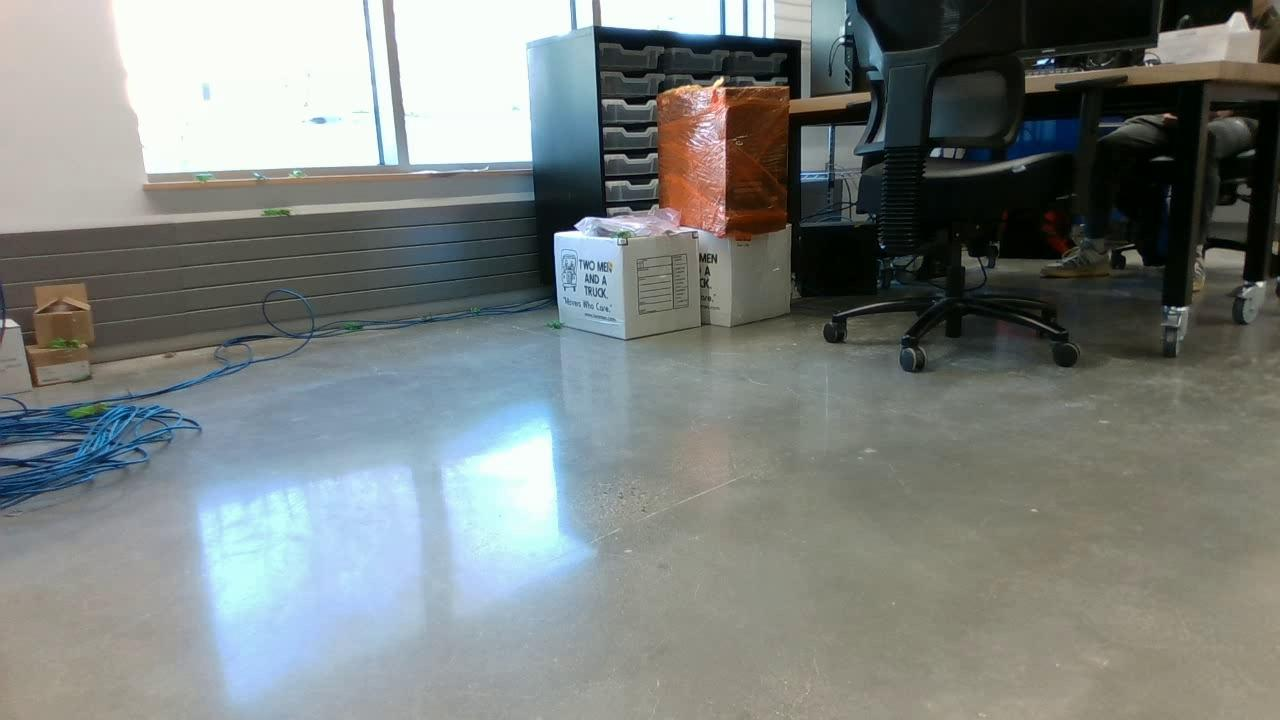grasshopper: (58, 402, 112, 420), (42, 337, 81, 350), (611, 225, 638, 241), (256, 208, 295, 218), (283, 168, 306, 182), (538, 320, 569, 330), (191, 173, 213, 183)
